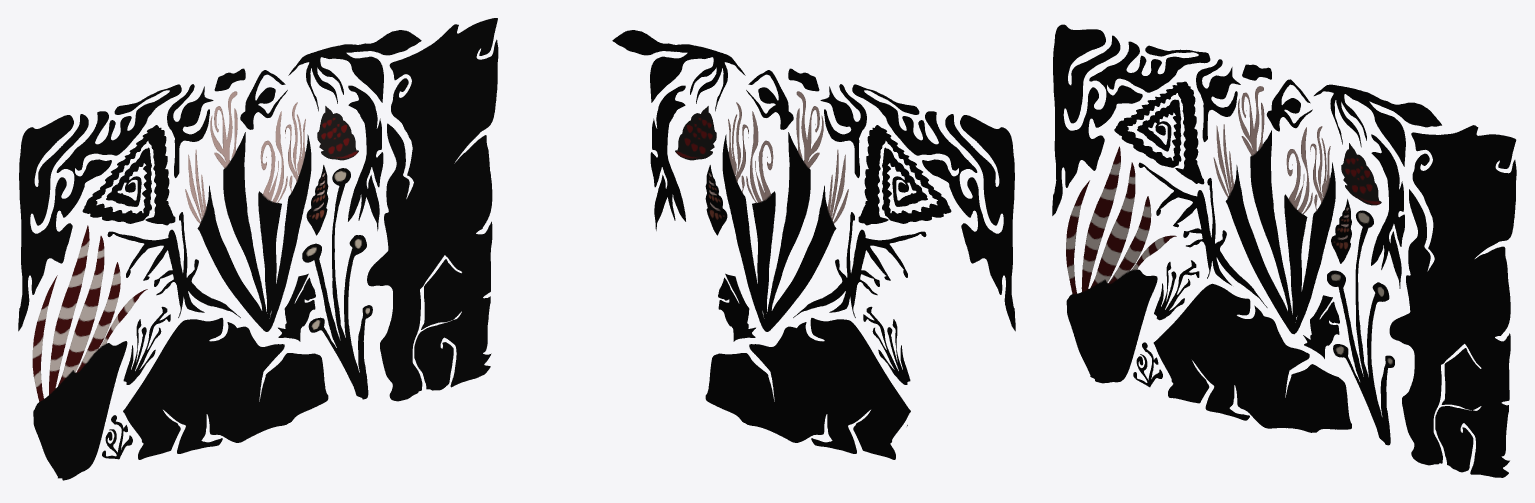
The model's file is natural objects1.fbx.
The picture shows the model from 3 angles, left to right: view 1: azimuth 30°, elevation 25°; view 2: azimuth 150°, elevation 25°; view 3: azimuth 330°, elevation 25°; orthographic projection. The views are drawn at different scales.
Parts seen in each view (by area): view 1: LongStone, RoundRock, WormsShelled, TubeTentacles, Corner, TriangleShell, BulbyFungus, Plant1, weirdKoren, Thing1, ForkStemBigger, ThiccShell (+5 smaller); view 2: RoundRock, TubeTentacles, Corner, TriangleShell, Plant1, weirdKoren, Thing1, ForkStemBigger, ThiccShell, SmallRock/coral, ForkSmaller, SmallSprout (+1 smaller); view 3: LongStone, RoundRock, WormsShelled, TubeTentacles, Corner, TriangleShell, BulbyFungus, Plant1, weirdKoren, Thing1, ForkStemBigger, ThiccShell (+4 smaller).
Part boxes in pixels (bbox=[...]): LongStone: bbox=[367, 18, 498, 401]; RoundRock: bbox=[123, 319, 328, 459]; WormsShelled: bbox=[32, 225, 147, 480]; TubeTentacles: bbox=[185, 91, 311, 331]; Corner: bbox=[18, 84, 181, 331]; TriangleShell: bbox=[82, 125, 175, 225]; BulbyFungus: bbox=[302, 168, 372, 399]; Plant1: bbox=[288, 30, 421, 111]; weirdKoren: bbox=[107, 212, 240, 320]; Thing1: bbox=[348, 85, 383, 230]; ForkStemBigger: bbox=[167, 84, 213, 177]; ThiccShell: bbox=[317, 106, 358, 160]; RoundRock: bbox=[705, 318, 910, 459]; TubeTentacles: bbox=[722, 91, 848, 331]; Corner: bbox=[852, 84, 1015, 331]; TriangleShell: bbox=[858, 125, 951, 225]; Plant1: bbox=[612, 30, 745, 111]; weirdKoren: bbox=[793, 212, 926, 317]; Thing1: bbox=[650, 85, 685, 230]; ForkStemBigger: bbox=[820, 84, 866, 177]; ThiccShell: bbox=[675, 106, 716, 160]; SmallRock/coral: bbox=[718, 273, 755, 341]; ForkSmaller: bbox=[746, 70, 793, 129]; SmallSprout: bbox=[863, 306, 910, 384]; LongStone: bbox=[1389, 125, 1516, 477]; RoundRock: bbox=[1153, 283, 1351, 432]; WormsShelled: bbox=[1066, 146, 1176, 383]; TubeTentacles: bbox=[1213, 86, 1335, 334]; Corner: bbox=[1052, 24, 1210, 215]; TriangleShell: bbox=[1114, 81, 1204, 184]; BulbyFungus: bbox=[1327, 210, 1394, 445]; Plant1: bbox=[1314, 84, 1441, 166]; weirdKoren: bbox=[1138, 162, 1267, 307]; Thing1: bbox=[1371, 134, 1404, 288]; ForkStemBigger: bbox=[1196, 59, 1240, 141]; ThiccShell: bbox=[1341, 143, 1381, 205].
Size of the model in its own units: 603 by 450 by 5.59e-05.
